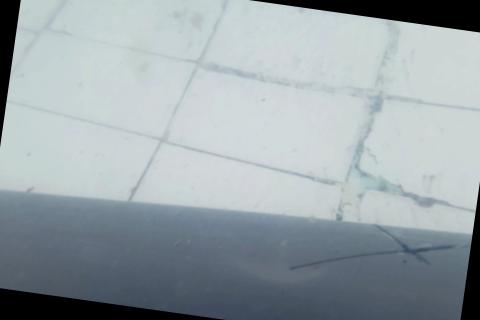keretakan: (285, 209, 472, 297)
